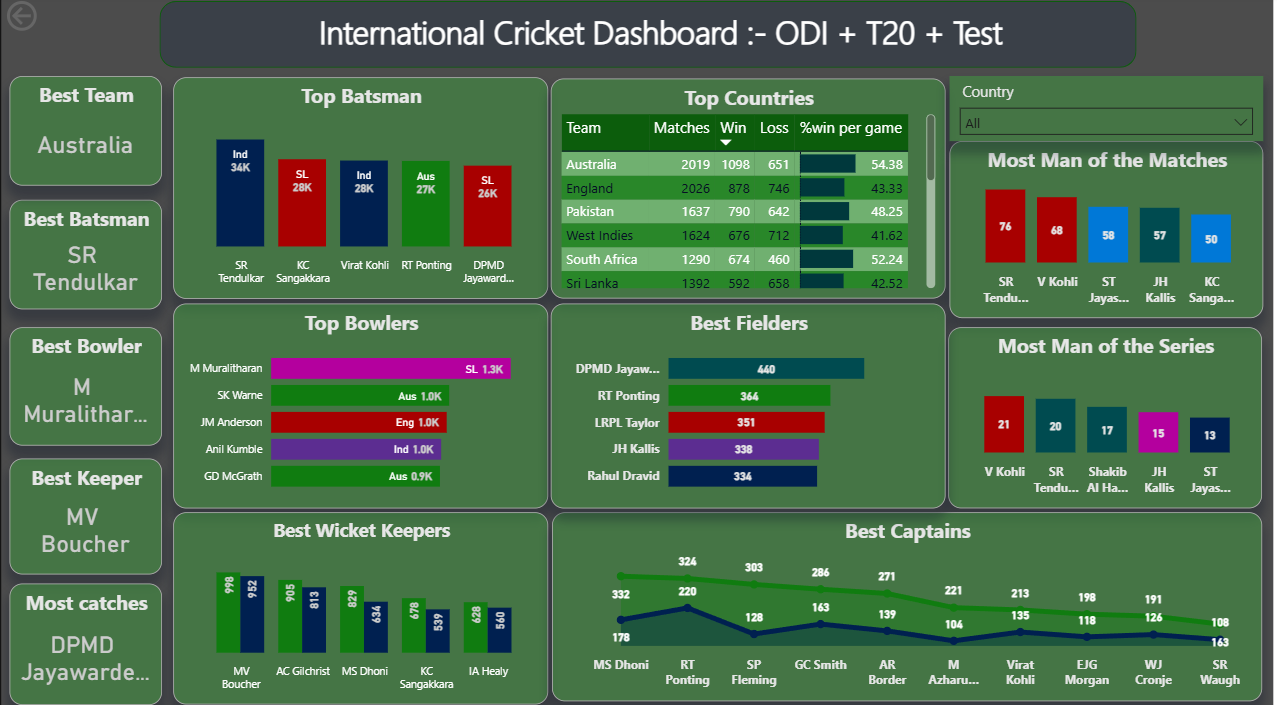

What the dashboard file says about the page in this screenshot:
{"tool":"powerbi","page":{"name":"Combined","canvas":[1280,720],"ordinal":0},"visuals":[{"type":"shape","box":[159.2,5.5,983.9,67.2],"z":0},{"type":"textbox","box":[229.2,8.2,868.6,60.4],"z":1000},{"type":"card","title":"Best Batsman","fields":{"Values":["combined -most runs.TopRunScorer"]},"box":[7.6,205.4,153.6,110.8],"z":2000},{"type":"card","title":"Best Team","fields":{"Values":["combined - results summary.BestTeam"]},"box":[7.6,80.8,153.6,110.8],"z":3000},{"type":"card","title":"Best Bowler","fields":{"Values":["combined - most wickets.TopWkScrore"]},"box":[7.6,333.6,153.6,119.6],"z":4000},{"type":"card","title":"Best Keeper","fields":{"Values":["combined - most WK dismissals.TopKeeper"]},"box":[7.6,465.8,153.6,117.1],"z":5000},{"type":"card","title":"Most catches","fields":{"Values":["combined -most catches.TopFielder"]},"box":[7.6,591.7,153.6,122.1],"z":6000},{"type":"columnChart","title":"Top Batsman","fields":{"Category":["combined -most runs.Player.1"],"Series":["combined -most runs.Team"],"Y":["combined -most runs.Runs"]},"box":[172.5,81.8,377.7,222.8],"z":7000},{"type":"tableEx","title":"Top Countries ","fields":{"Values":["combined - results summary.Team_full","combined - results summary.Matches","combined - results summary.Win","combined - results summary.Loss","combined - results summary.%W"]},"box":[552.6,83.1,397.8,221.6],"z":8000},{"type":"barChart","title":"Top Bowlers","fields":{"Category":["combined - most wickets.Player.1"],"Y":["combined - most wickets.Wkt"],"Series":["combined - most wickets.Team"]},"box":[172.5,309.7,377.7,206.5],"z":9000},{"type":"lineStackedColumnComboChart","title":"Most Man of the Matches","fields":{"Category":["combined - most player of the matches.Player.1"],"Y":["combined - most player of the matches.Awards"],"Series":["combined - most player of the matches.Team"]},"box":[954.2,146,316,178.8],"z":10000},{"type":"lineStackedColumnComboChart","title":"Most Man of the Series","fields":{"Category":["combined - most player of the series.Player.1"],"Y":["combined - most player of the series.Awards"],"Series":["combined - most player of the series.Test"]},"box":[953,333.6,316,182.5],"z":11000},{"type":"clusteredColumnChart","title":"Best Wicket Keepers","fields":{"Category":["combined - most WK dismissals.Player.1"],"Y":["combined - most WK dismissals.Dis","combined - most WK dismissals.Ct"]},"box":[172.5,519.9,377.7,193.9],"z":12000},{"type":"slicer","title":"Country","fields":{"Values":["combined - results summary.Team_full"]},"box":[954.2,80.6,316,65.5],"z":13000},{"type":"lineChart","title":"Best Captains","fields":{"Category":["combined - most matches as captain.Player.1"],"Y":["combined - most matches as captain.Mat","combined - most matches as captain.W"]},"box":[554,520,715,190],"z":14000},{"type":"barChart","title":"Best Fielders","fields":{"Category":["combined -most catches.Name"],"Series":["combined -most catches.Team"],"Y":["combined -most catches.Ct"]},"box":[552.6,309.7,397.8,206.5],"z":15000},{"type":"actionButton","box":[0,0,100,40],"z":16000}]}

Visuals, with their boxes in screenshot pixels (x1, y1, x2, y2), scaled from the page's 1280x720 canvas onto the 1277x705 screenshot:
shape: 159:5:1140:71
textbox: 229:8:1095:67
"Best Batsman" card: 8:201:161:310
"Best Team" card: 8:79:161:188
"Best Bowler" card: 8:327:161:444
"Best Keeper" card: 8:456:161:571
"Most catches" card: 8:579:161:699
"Top Batsman" columnChart: 172:80:549:298
"Top Countries " tableEx: 551:81:948:298
"Top Bowlers" barChart: 172:303:549:505
"Most Man of the Matches" lineStackedColumnComboChart: 952:143:1267:318
"Most Man of the Series" lineStackedColumnComboChart: 951:327:1266:505
"Best Wicket Keepers" clusteredColumnChart: 172:509:549:699
"Country" slicer: 952:79:1267:143
"Best Captains" lineChart: 553:509:1266:695
"Best Fielders" barChart: 551:303:948:505
actionButton: 0:0:100:39
